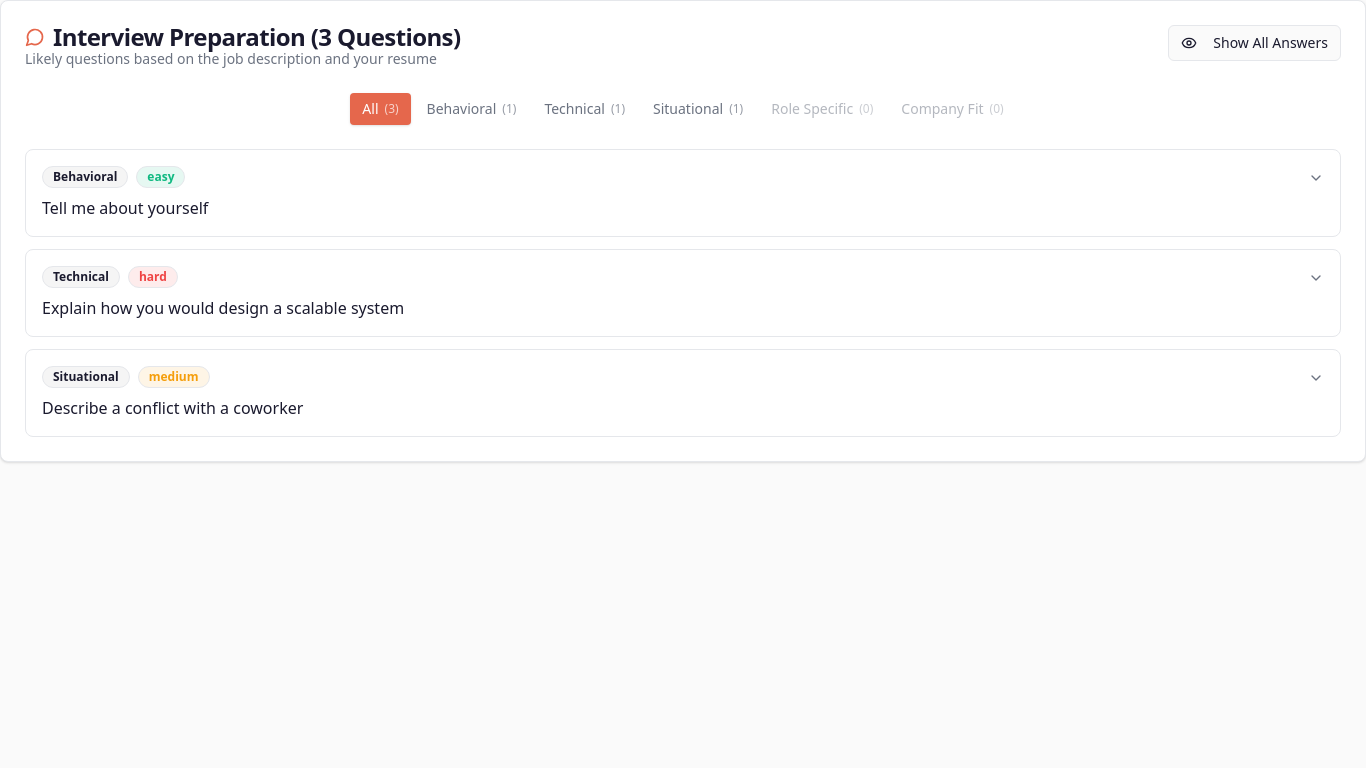
Test: InterviewQuestions › shows all answers when 'Show All Answers' button is clicked
// Click show all answers button
Click the button "Show All Answers" at x=1255, y=43, box [1168, 25, 1341, 61]
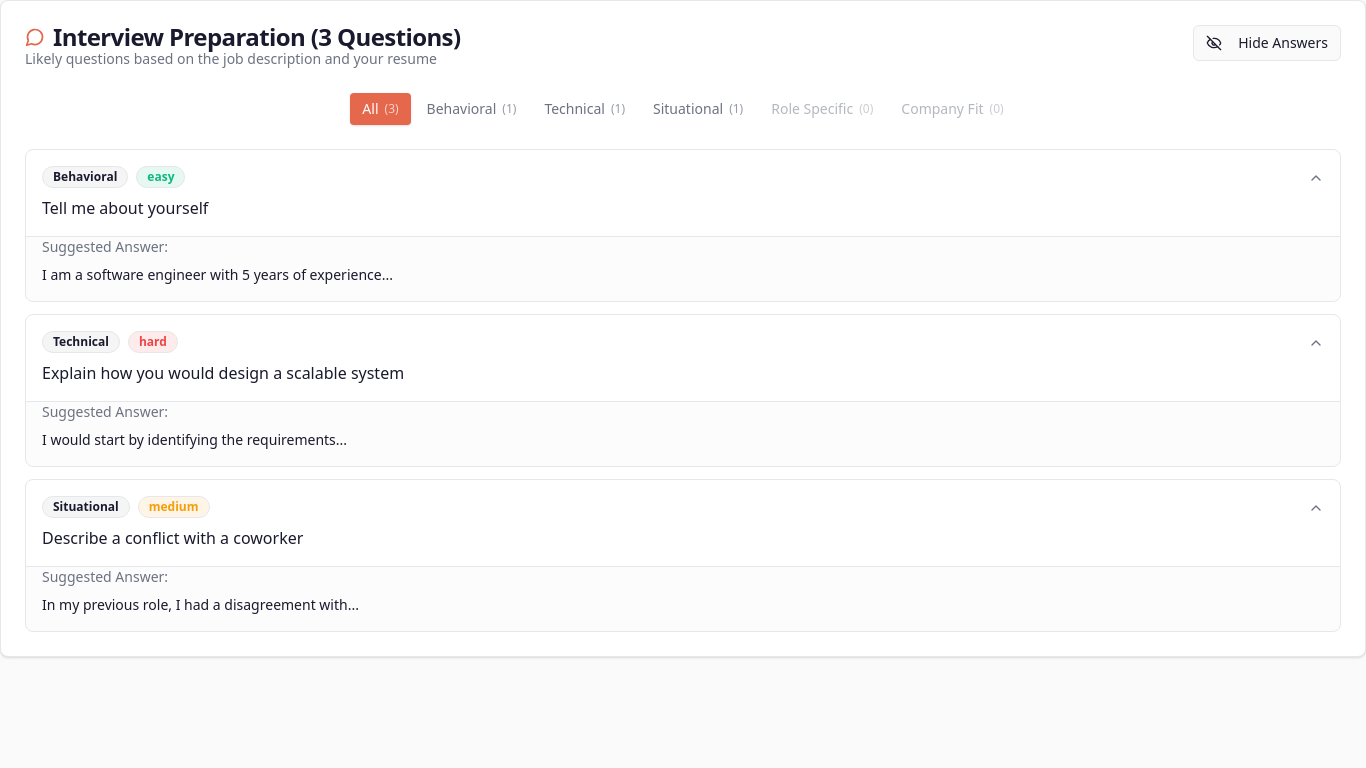
Result: the text "I am a software engineer with 5 years of experience..." is shown at [42, 265, 393, 284]
Result: the text "I would start by identifying the requirements..." is shown at [42, 430, 347, 449]
Result: the text "In my previous role, I had a disagreement with..." is shown at [42, 595, 359, 614]
